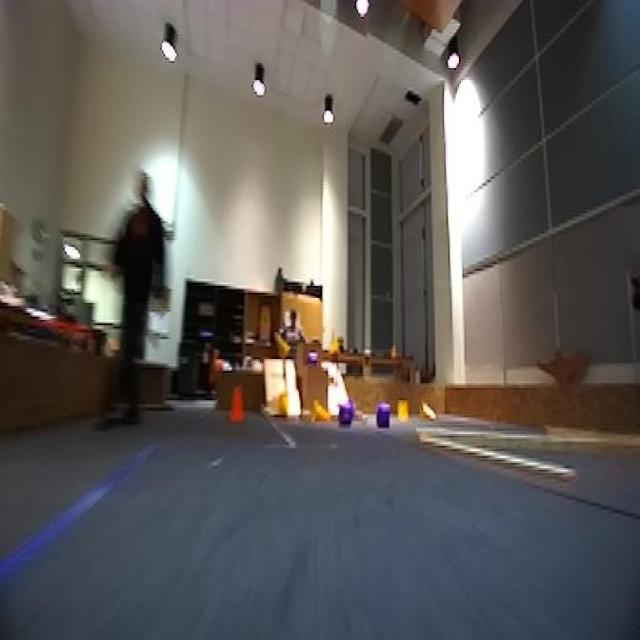frc_cone: (308, 402, 330, 431), (420, 402, 441, 427), (395, 398, 409, 429), (278, 390, 292, 419), (327, 330, 341, 359), (278, 335, 294, 359)
frc_cube: (374, 400, 394, 431), (337, 402, 352, 427), (305, 346, 320, 370)
